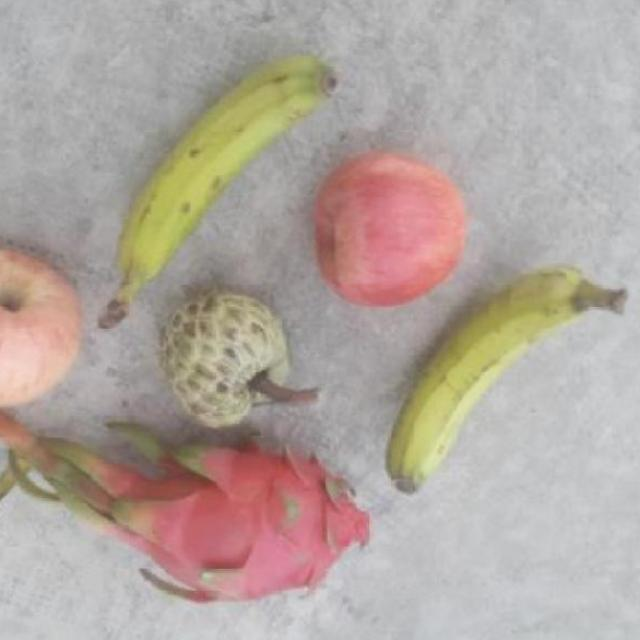apple: (310, 142, 468, 307), (0, 248, 87, 410)
banana: (95, 51, 344, 336), (381, 262, 637, 497)
dragon fruit: (104, 432, 372, 610)
sugar apple: (158, 292, 308, 432)
